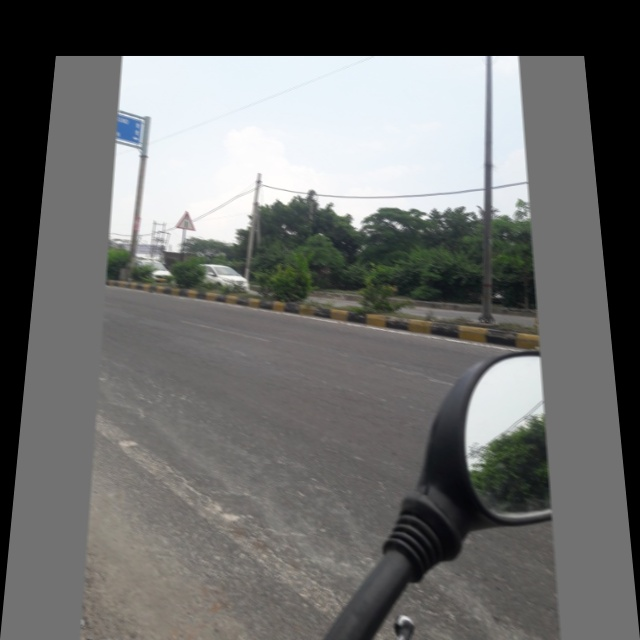Gap_in_Median: (174, 206, 198, 232)
